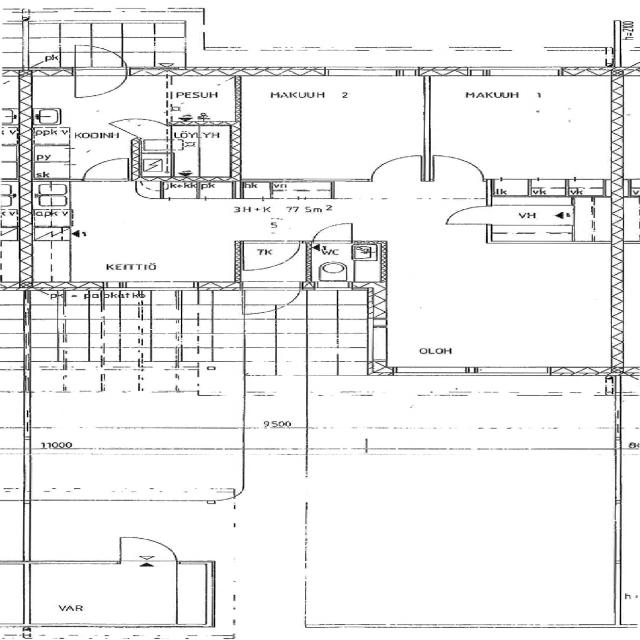door: (244, 282, 299, 316), (75, 67, 127, 100), (75, 44, 127, 76), (120, 535, 176, 564), (243, 241, 300, 269), (111, 112, 168, 138), (434, 156, 484, 181), (372, 156, 421, 181), (84, 159, 128, 181), (448, 206, 492, 224), (314, 223, 352, 243)
